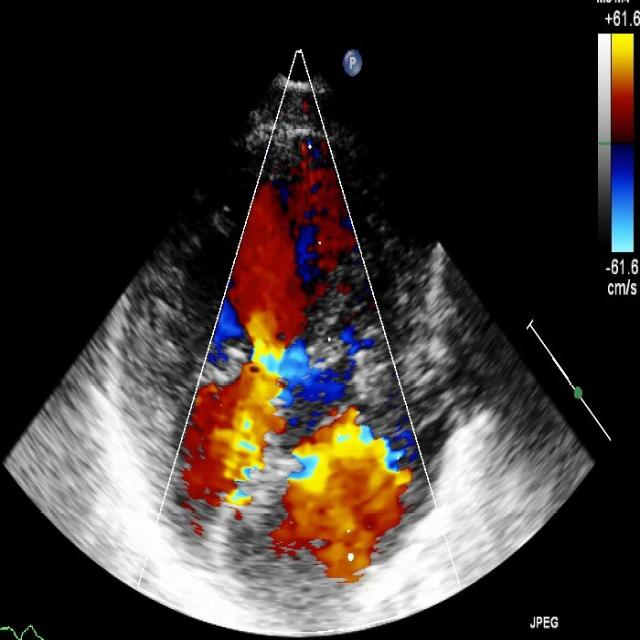VSDType2: (225, 182, 315, 390)
